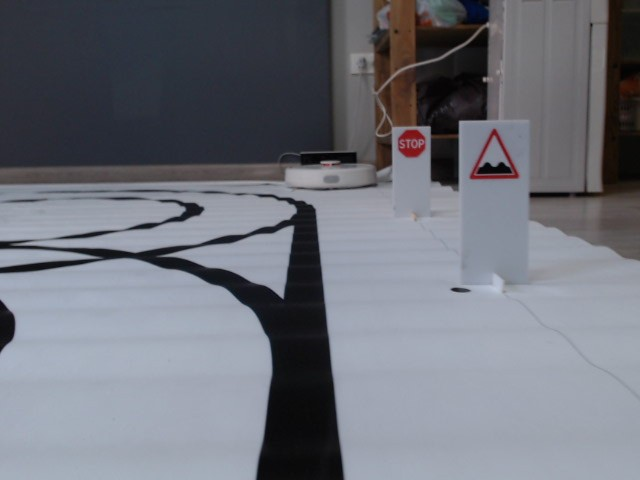Nerov: (467, 127, 528, 182)
Stop: (397, 128, 427, 160)
